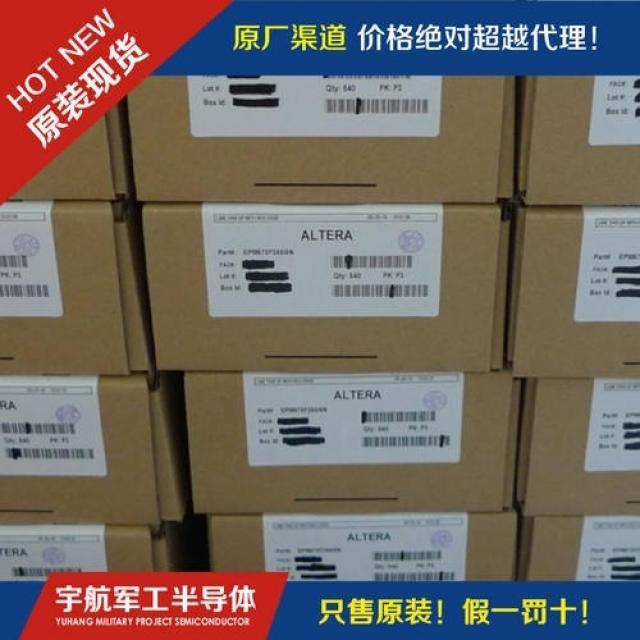box: (143, 203, 510, 373), (181, 362, 521, 517), (125, 77, 512, 202), (0, 377, 190, 526), (0, 201, 153, 379), (505, 205, 639, 379), (209, 511, 520, 581), (514, 378, 639, 517), (516, 77, 639, 205), (2, 104, 130, 206), (0, 523, 196, 582), (516, 512, 639, 581)
